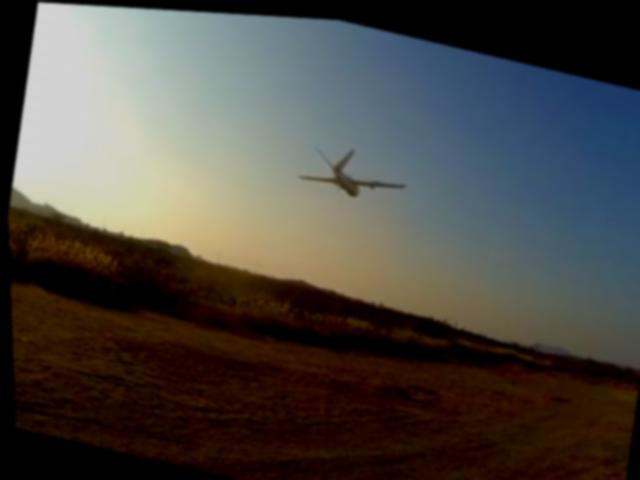uav: (284, 122, 422, 217)
